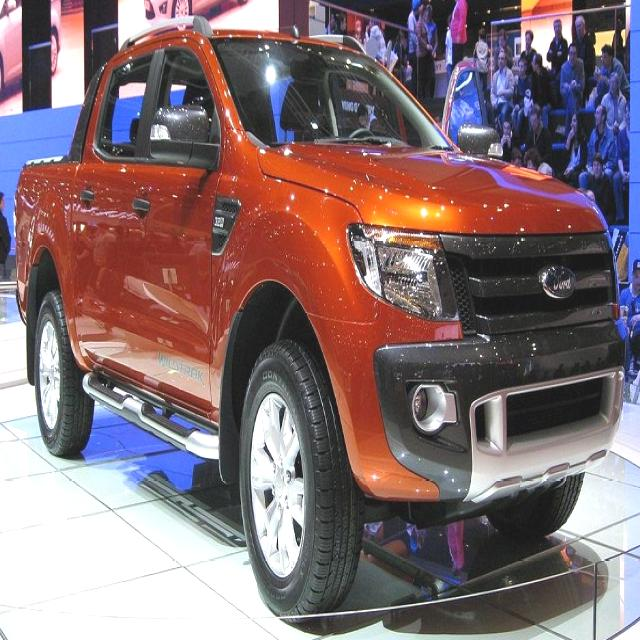CMT: (19, 25, 613, 577)
